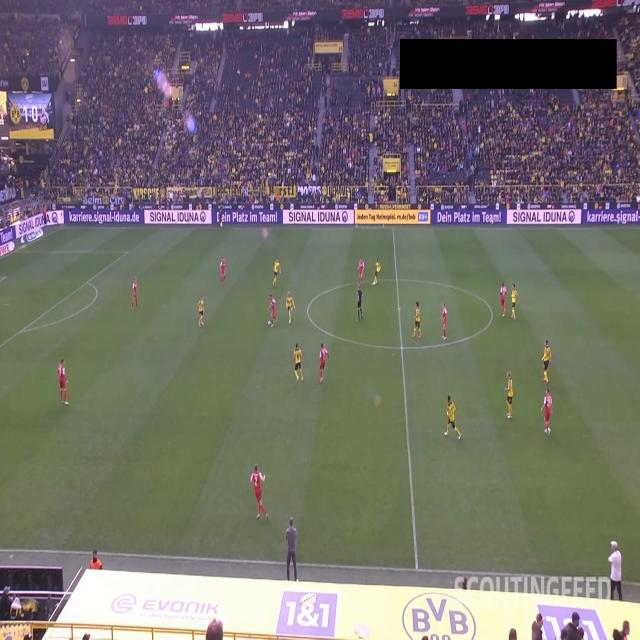f_player: (500, 365, 517, 428), (249, 465, 267, 522), (445, 394, 462, 442), (498, 281, 518, 319), (543, 388, 556, 438), (56, 358, 68, 405), (316, 342, 329, 384), (542, 341, 553, 384), (412, 301, 424, 340), (266, 292, 278, 328), (438, 302, 448, 340), (286, 291, 297, 325), (294, 346, 304, 382), (500, 283, 510, 319), (509, 285, 519, 320), (271, 257, 282, 288), (197, 295, 206, 328), (356, 252, 364, 287), (130, 278, 138, 312), (372, 259, 382, 285), (220, 258, 229, 285)
umpire: (356, 287, 365, 325), (218, 207, 224, 230)
